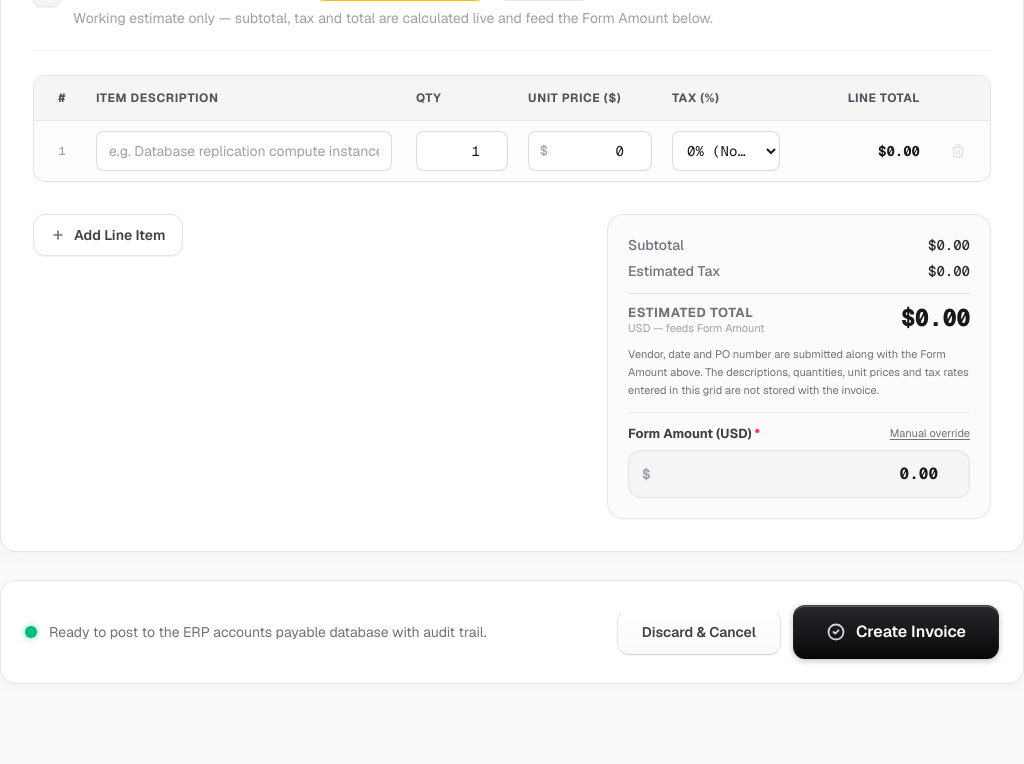
it: New invoice form › fresh form carries no fabricated invoice data › refuses to submit the zero estimate the blank grid produces
(page scrolled)
Click the button "Create Invoice" at (896, 632), box 793,605 -> 999,659
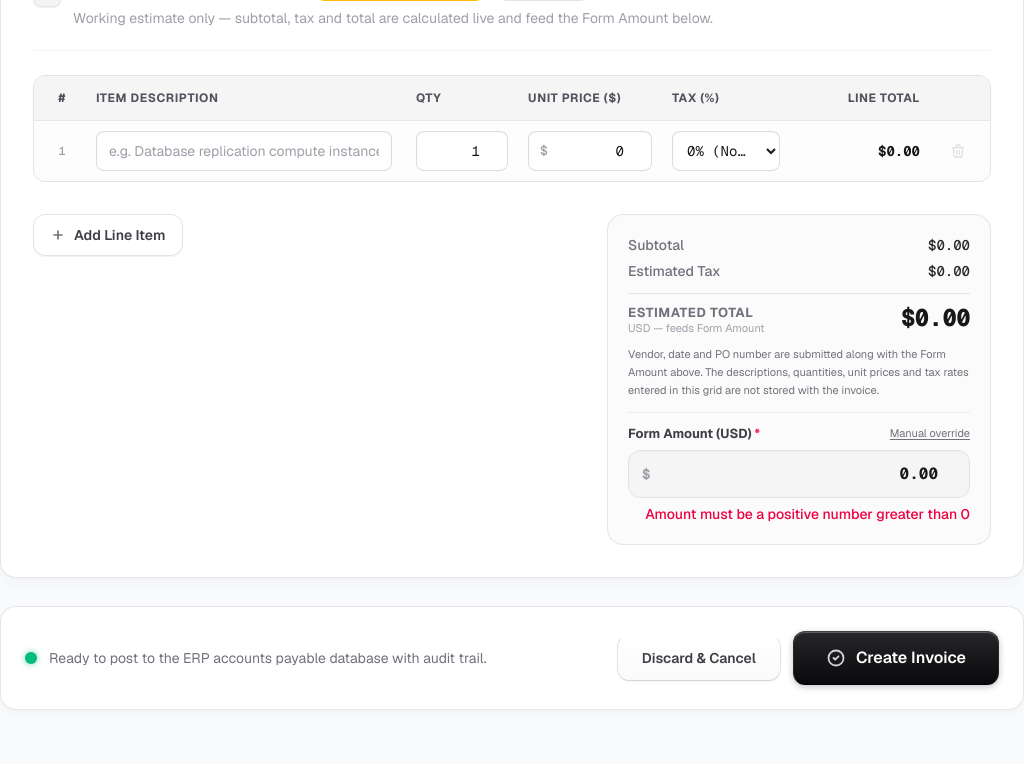
Result: the text "Amount must be a positive number greater than 0" is shown at 628,504 -> 970,524
